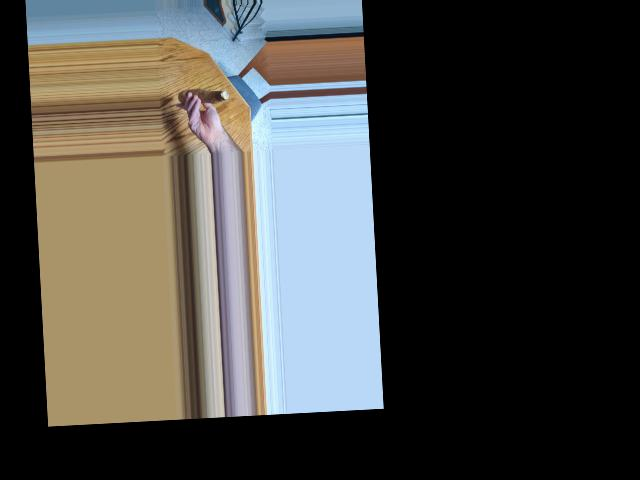sweet_potato: (181, 82, 223, 103)
